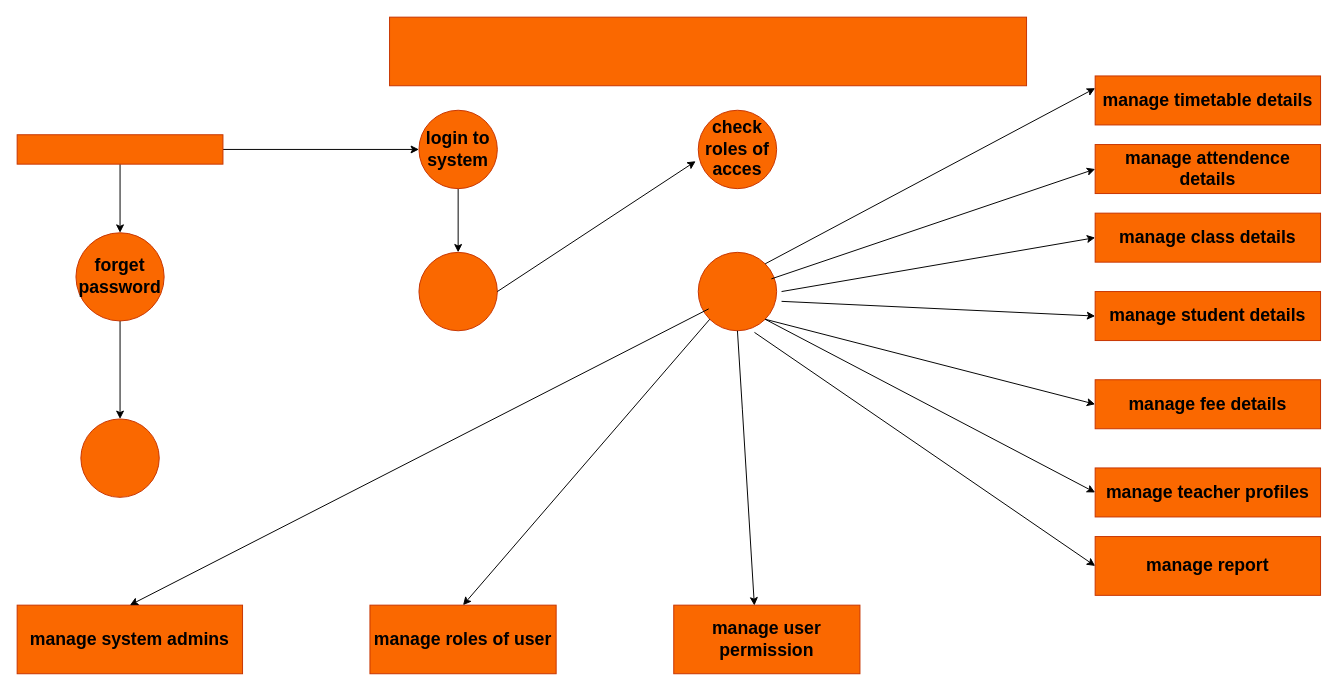
The diagram is 1338 pixels wide and 692 high, and some of its shapes have lost their labels. The shapes that lost their labels are listed below. From the top down, each one's box as (x1, y1, x2, y2) in pixels, then its label:
(389, 16, 1027, 86): student information system
(16, 134, 223, 164): admin
(418, 251, 497, 331): check credentials
(697, 251, 777, 331): manage modules
(80, 418, 159, 497): send email to user
